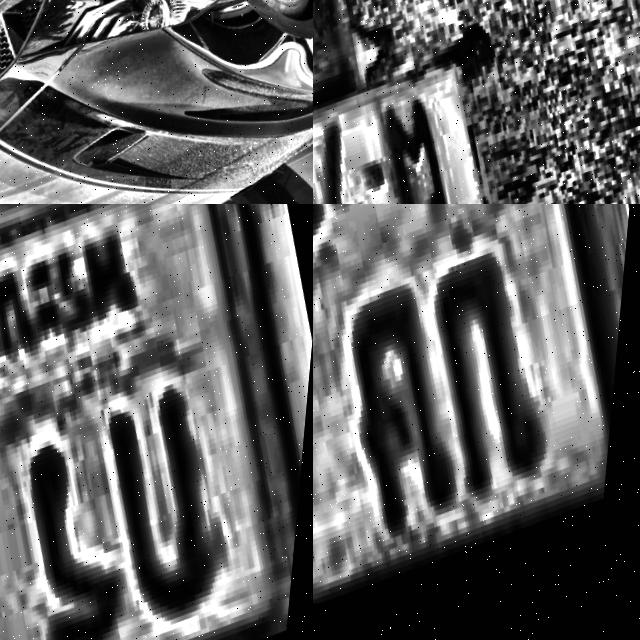license-plate: (313, 204, 640, 640), (0, 204, 313, 640), (313, 6, 573, 204)
